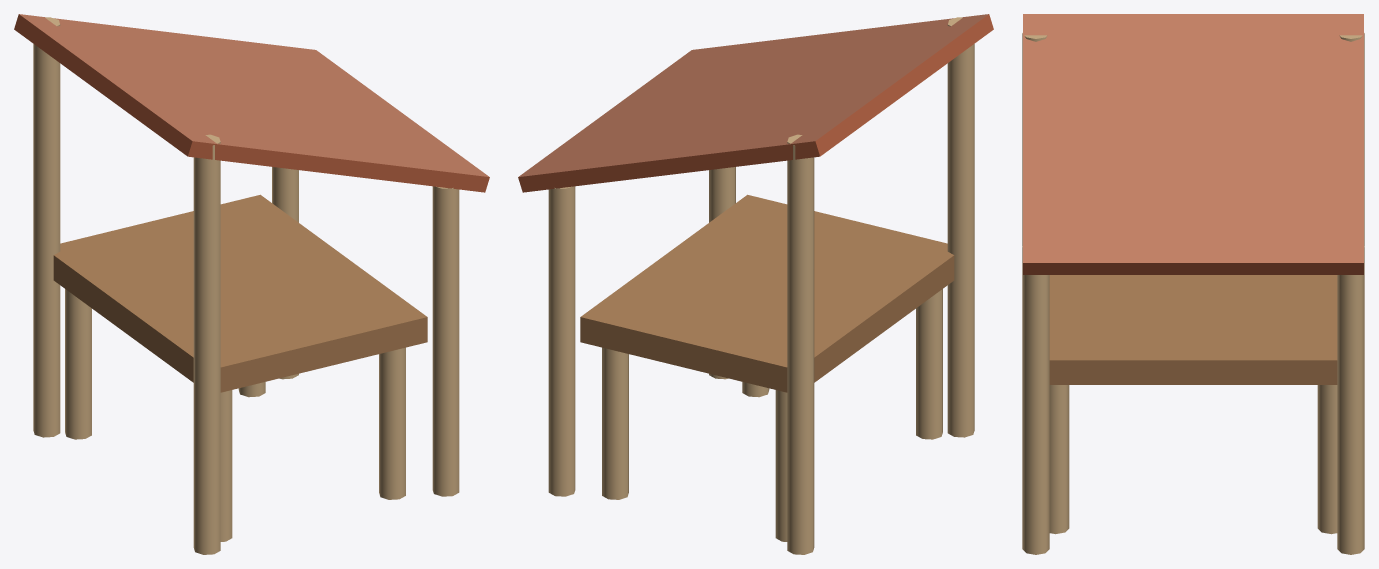
Rendered from market_stall.fbx.
3 renders of one model, left to right at view 1: azimuth 30°, elevation 25°; view 2: azimuth 150°, elevation 25°; view 3: azimuth 270°, elevation 25°, orthographic.
Visible parts, largest first — view 1: market_stall; view 2: market_stall; view 3: market_stall.
Boxes of the visible parts, box(x1,y1,x2,y2) form: market_stall: box(14, 14, 489, 554); market_stall: box(518, 14, 993, 554); market_stall: box(1022, 14, 1364, 554).
Size of the model in its own units: 0.1253 by 0.1657 by 0.1252.
